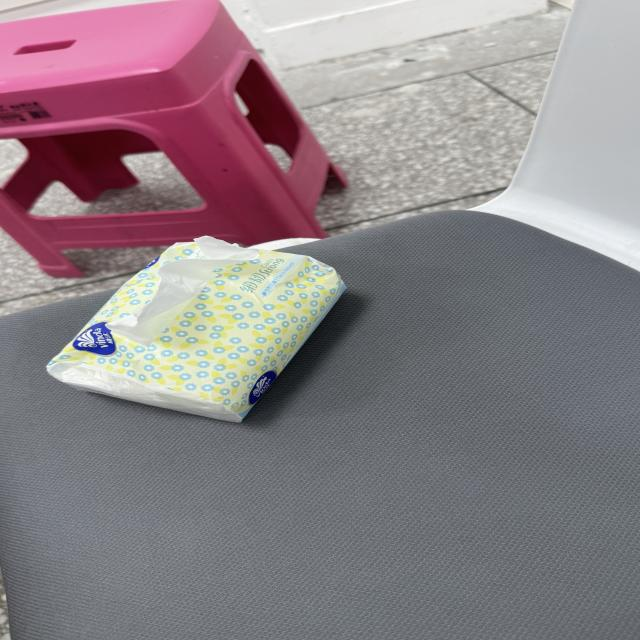tissue: (48, 237, 344, 421)
